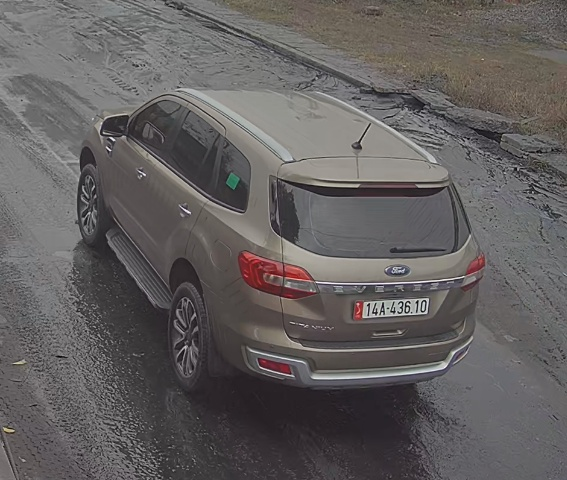vehicle plate: (344, 294, 443, 322)
